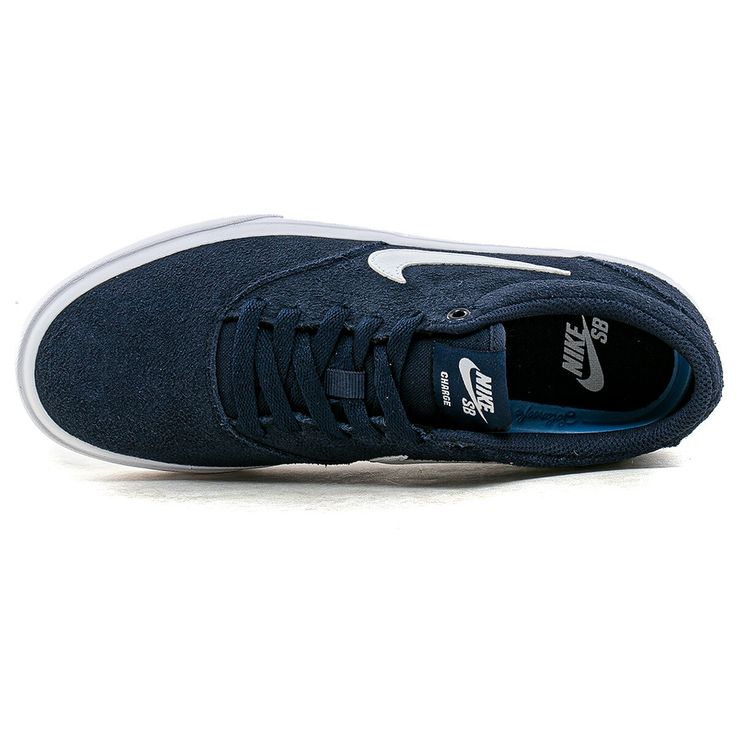gamuza: (35, 234, 723, 470)
